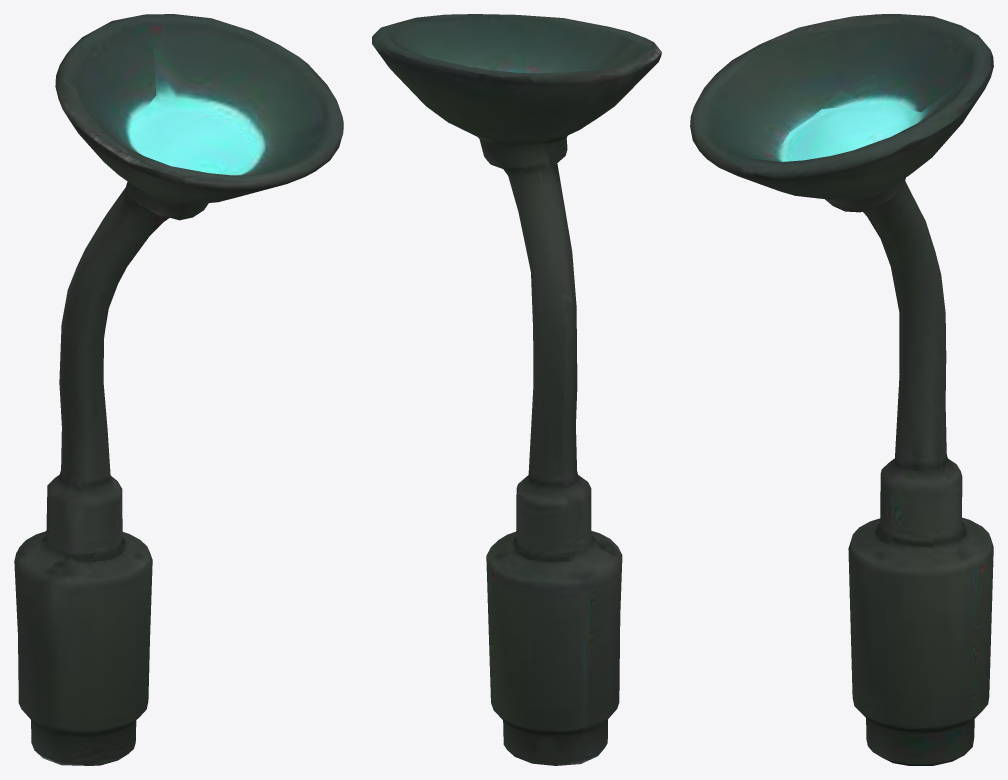
File: Antena 01.glb
3 renders of one model, left to right at view 1: azimuth 30°, elevation 25°; view 2: azimuth 150°, elevation 25°; view 3: azimuth 270°, elevation 25°, orthographic. The views are drawn at different scales.
Parts seen in each view (by area): view 1: Antena 01; view 2: Antena 01; view 3: Antena 01.
Boxes of the visible parts, x1,y1,x2,y2 form: Antena 01: (14, 14, 343, 765); Antena 01: (372, 14, 661, 765); Antena 01: (690, 14, 993, 765).
Bounding box in the file's own units: 0.1294 × 0.3269 × 0.1234.
Materials: 1 (1 with a texture image).
